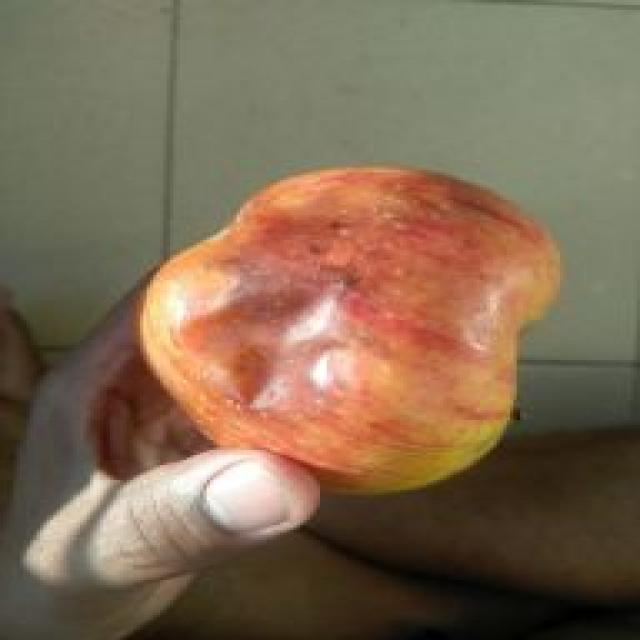Bad_Apple: (138, 168, 560, 493)
